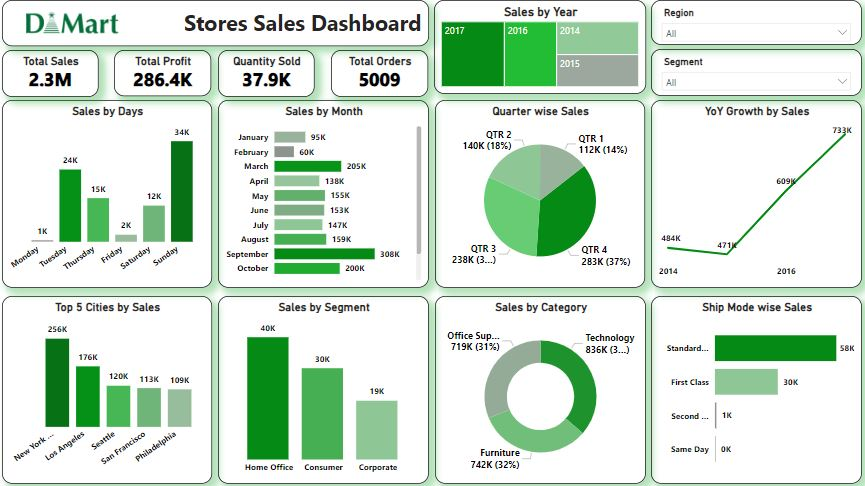

The page's visual inventory and layout, read from the dashboard file:
{"tool":"powerbi","page":{"name":"Page 1","canvas":[1280,720],"ordinal":0},"visuals":[{"type":"donutChart","title":"Sales by Category","fields":{"Category":["DMart Sales.Category"],"Y":["Sum(DMart Sales.Sales)"]},"box":[641.2,436.8,310.3,276.5],"z":0},{"type":"clusteredColumnChart","title":"Top 5 Cities by Sales","fields":{"Y":["Sum(DMart Sales.Sales)"],"Category":["DMart Sales.City"]},"box":[4.4,436.8,308.8,276.5],"z":1000},{"type":"lineChart","title":"YoY Growth by Sales","fields":{"Category":["DMart Sales.Year"],"Y":["Sum(DMart Sales.Sales)"]},"box":[958.8,148.5,310.3,276.5],"z":2000},{"type":"clusteredColumnChart","title":"Sales by Days","fields":{"Category":["DMart Sales.Day Name"],"Y":["Sum(DMart Sales.Sales)"]},"box":[4.4,148.5,308.8,276.5],"z":3000},{"type":"clusteredBarChart","title":"Sales by Month","fields":{"Category":["DMart Sales.Month Name"],"Y":["Sum(DMart Sales.Sales)"]},"box":[322.1,148.5,310.3,276.5],"z":4000},{"type":"pieChart","title":"Quarter wise Sales","fields":{"Category":["DMart Sales.QTR Name"],"Y":["Sum(DMart Sales.Sales)"]},"box":[641.2,148.5,308.8,276.5],"z":5000},{"type":"clusteredColumnChart","title":"Sales by Segment","fields":{"Y":["Sum(DMart Sales.Sales)"],"Category":["DMart Sales.Segment"]},"box":[322.1,436.8,310.3,276.5],"z":6000},{"type":"clusteredBarChart","title":"Ship Mode wise Sales","fields":{"Category":["DMart Sales.Ship Mode"],"Y":["Sum(DMart Sales.Sales)"]},"box":[958.8,436.8,310.3,276.5],"z":7000},{"type":"textbox","box":[4.4,1.5,627.9,67.6],"z":8000},{"type":"image","box":[27.1,4.3,162.9,61.4],"z":9000},{"type":"card","title":"Total Sales","fields":{"Values":["Sum(DMart Sales.Sales)"]},"box":[4.3,74.9,142,69.1],"z":10000},{"type":"card","title":"Total Profit","fields":{"Values":["Sum(DMart Sales.Profit)"]},"box":[169.1,75,142.6,67.6],"z":11000},{"type":"card","title":"Quantity Sold","fields":{"Values":["Sum(DMart Sales.Quantity)"]},"box":[322.1,75,142,69.1],"z":12000},{"type":"card","title":"Total Orders","fields":{"Values":["Count(DMart Sales.Order ID)"]},"box":[488.2,75,142.6,69.1],"z":12001},{"type":"treemap","title":"Sales by Year","fields":{"Group":["DMart Sales.Year"],"Values":["Sum(DMart Sales.Sales)"]},"box":[639.7,1.5,311.8,138.2],"z":12002},{"type":"slicer","fields":{"Values":["DMart Sales.Region"]},"box":[958.8,1.5,310.3,66.2],"z":12003},{"type":"slicer","fields":{"Values":["DMart Sales.Segment"]},"box":[958.8,73.5,310.3,69.1],"z":12004}]}

Visuals, with their boxes in screenshot pixels (x1, y1, x2, y2), scaled from the page's 1280x720 canvas onto the 865x486 screenshot:
"Sales by Category" donutChart: {"left": 433, "top": 295, "right": 643, "bottom": 481}
"Top 5 Cities by Sales" clusteredColumnChart: {"left": 3, "top": 295, "right": 212, "bottom": 481}
"YoY Growth by Sales" lineChart: {"left": 648, "top": 100, "right": 858, "bottom": 287}
"Sales by Days" clusteredColumnChart: {"left": 3, "top": 100, "right": 212, "bottom": 287}
"Sales by Month" clusteredBarChart: {"left": 218, "top": 100, "right": 427, "bottom": 287}
"Quarter wise Sales" pieChart: {"left": 433, "top": 100, "right": 642, "bottom": 287}
"Sales by Segment" clusteredColumnChart: {"left": 218, "top": 295, "right": 427, "bottom": 481}
"Ship Mode wise Sales" clusteredBarChart: {"left": 648, "top": 295, "right": 858, "bottom": 481}
textbox: {"left": 3, "top": 1, "right": 427, "bottom": 47}
image: {"left": 18, "top": 3, "right": 128, "bottom": 44}
"Total Sales" card: {"left": 3, "top": 51, "right": 99, "bottom": 97}
"Total Profit" card: {"left": 114, "top": 51, "right": 211, "bottom": 96}
"Quantity Sold" card: {"left": 218, "top": 51, "right": 314, "bottom": 97}
"Total Orders" card: {"left": 330, "top": 51, "right": 426, "bottom": 97}
"Sales by Year" treemap: {"left": 432, "top": 1, "right": 643, "bottom": 94}
slicer - DMart Sales.Region: {"left": 648, "top": 1, "right": 858, "bottom": 46}
slicer - DMart Sales.Segment: {"left": 648, "top": 50, "right": 858, "bottom": 96}
